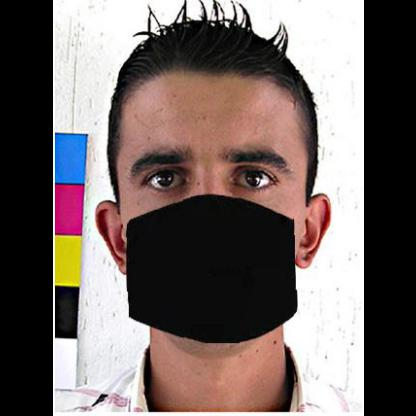Fabric/Cloth Mask: (114, 108, 298, 328)
